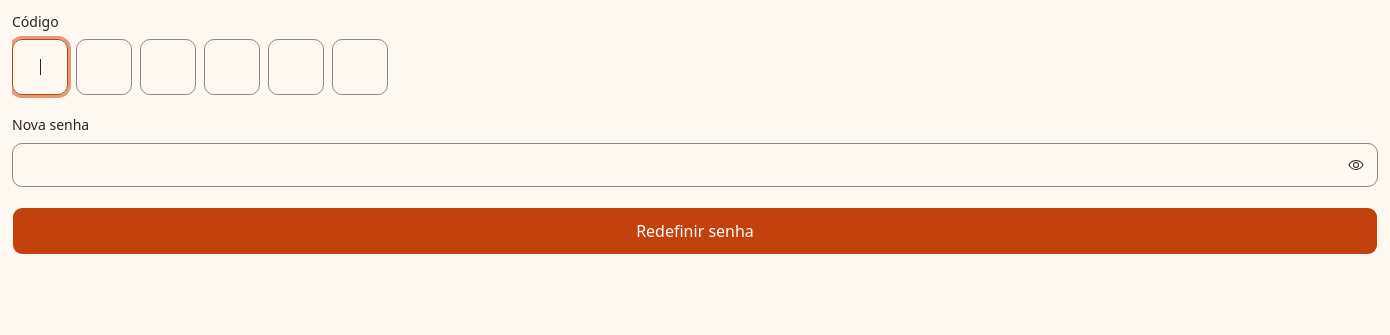
ResetPasswordForm › explains a CodeInvalid answer
Type "ab3d9x" into the field labelled "Código".
click(695, 67); type("ab3d9x")  # box top-left (12, 39), bottom-right (1378, 95)
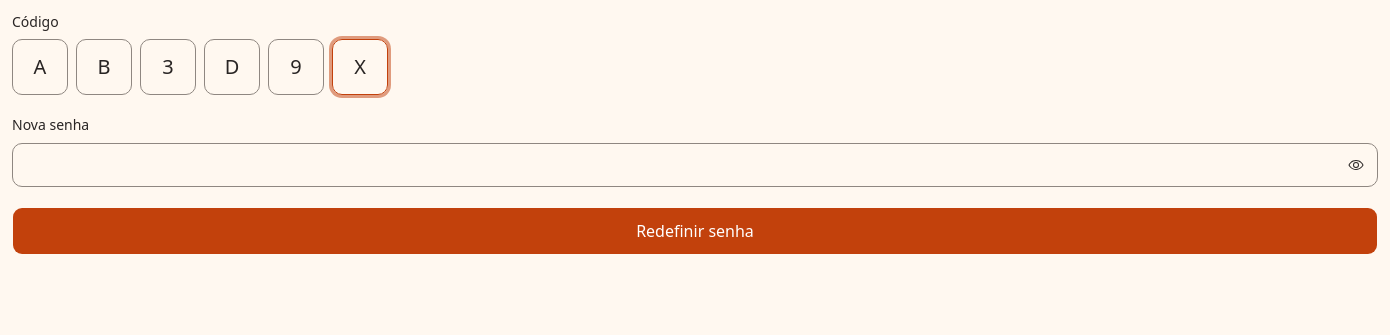
Type " newsecret " into the password field labelled "Nova senha".
click(695, 164); type(" newsecret ")  # box top-left (12, 142), bottom-right (1378, 186)
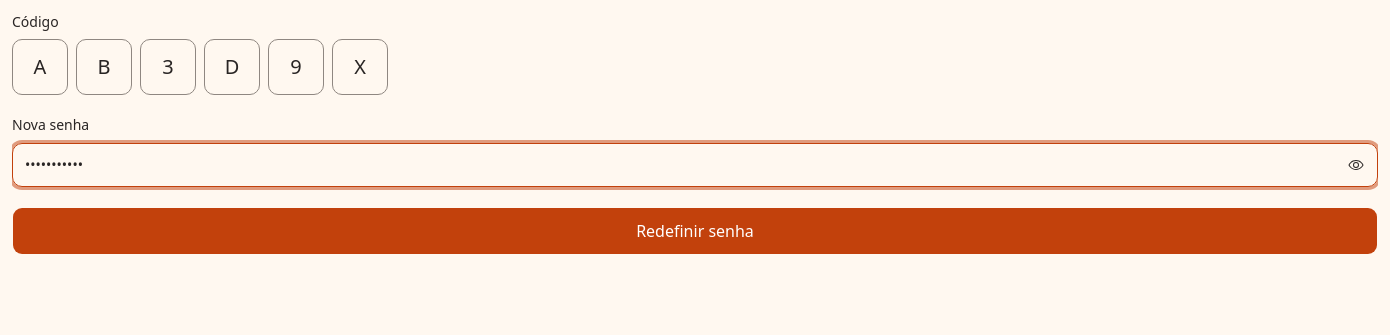
Click the button "Redefinir senha".
click(695, 230)  # box top-left (12, 206), bottom-right (1378, 254)
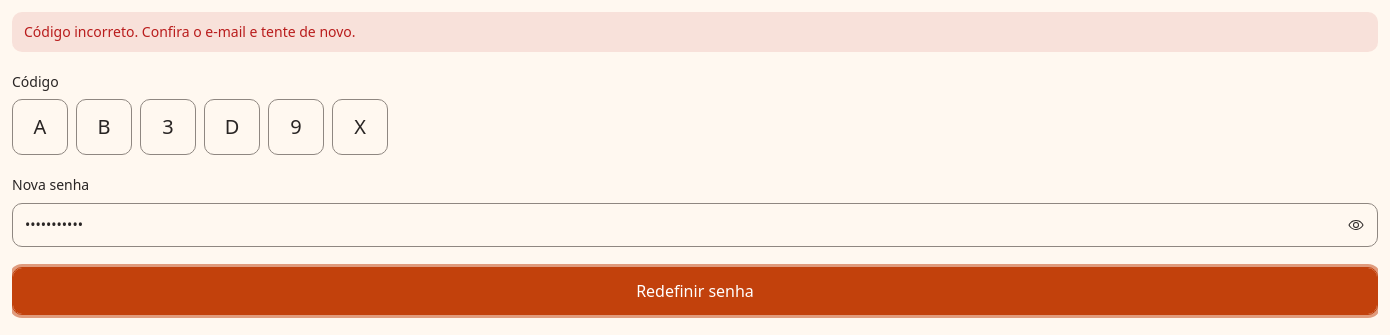
Expected: the message shows "Código incorreto", top-left (24, 22), bottom-right (356, 41)
